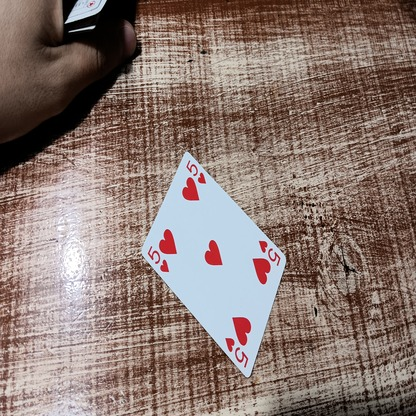5h: (224, 336, 248, 367), (144, 244, 170, 272), (259, 239, 281, 264), (186, 159, 207, 184)
